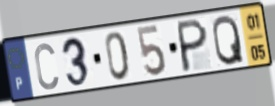0: (104, 30, 131, 82)
3: (60, 34, 95, 90)
5: (134, 22, 167, 78)
C: (32, 41, 60, 92)
P: (177, 16, 209, 74)
Q: (211, 13, 246, 67)
